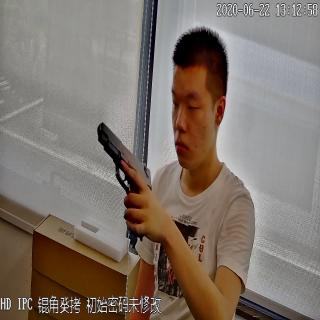gun: (95, 121, 154, 245)
